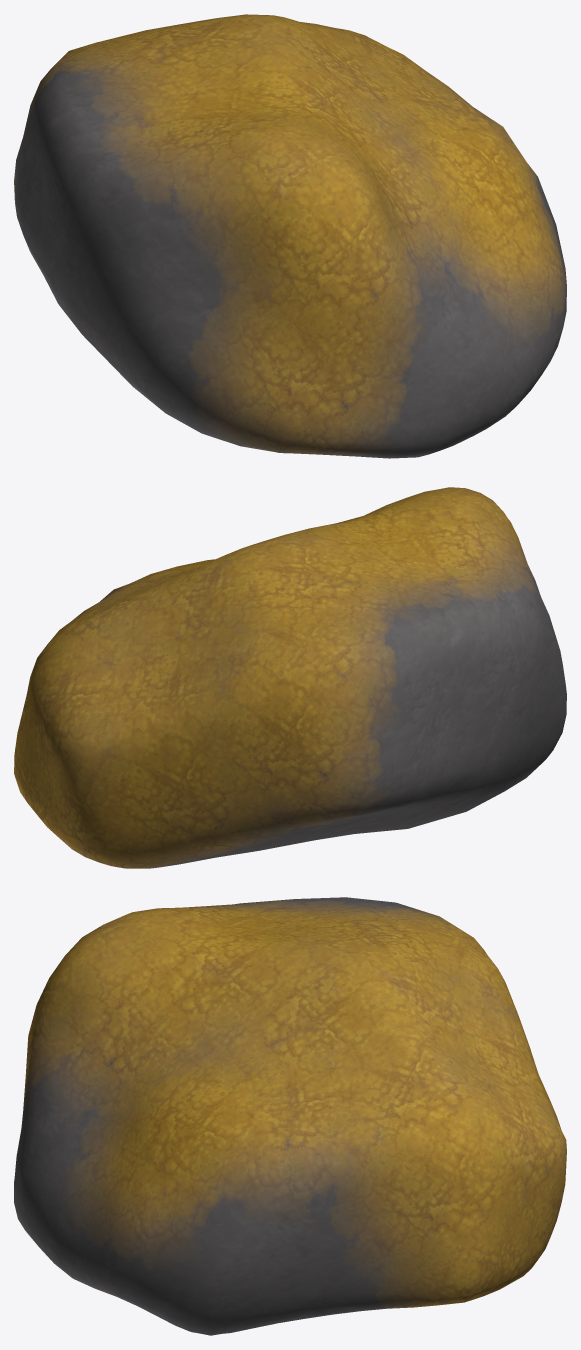
File: rock5.fbx
The picture shows the model from 3 angles, top to bottom: view 1: azimuth 30°, elevation 25°; view 2: azimuth 150°, elevation 25°; view 3: azimuth 270°, elevation 25°; orthographic projection. The views are drawn at different scales.
Visible parts, largest first — view 1: rock01; view 2: rock01; view 3: rock01.
Part boxes in pixels (x1=…): rock01: x1=14, y1=14, x2=566, y2=458; rock01: x1=14, y1=487, x2=566, y2=868; rock01: x1=14, y1=897, x2=566, y2=1335.
Bounding box in the file's own units: 96.68 × 67.2 × 108.
